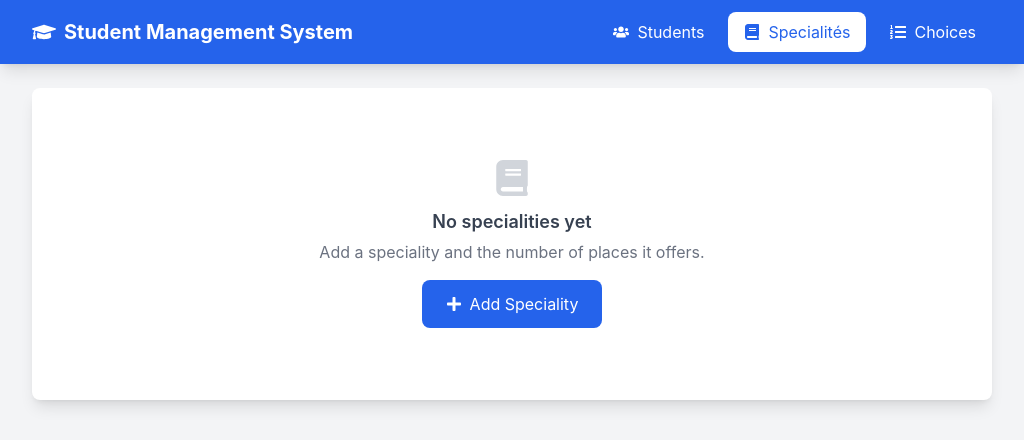
Test: rejects duplicate speciality names
The image size is (1024, 440).
Click the button "Add Speciality" at {"x": 512, "y": 304}, box [422,280,602,328]
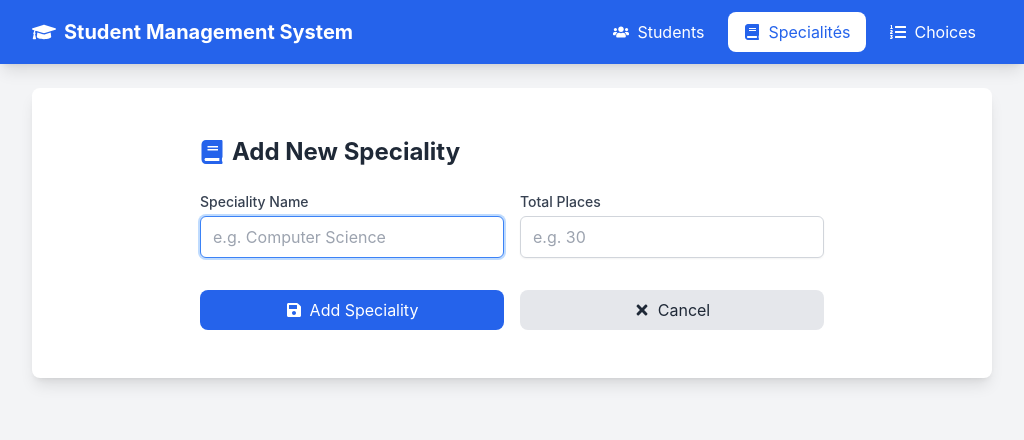
Type "Math" into the field labelled "Speciality Name" at {"x": 352, "y": 237}, box [200,216,504,258]
Type "10" into the number field labelled "Total Places" at {"x": 672, "y": 237}, box [520,216,824,258]
Click the button "Add Speciality" at {"x": 352, "y": 310}, box [200,290,504,330]
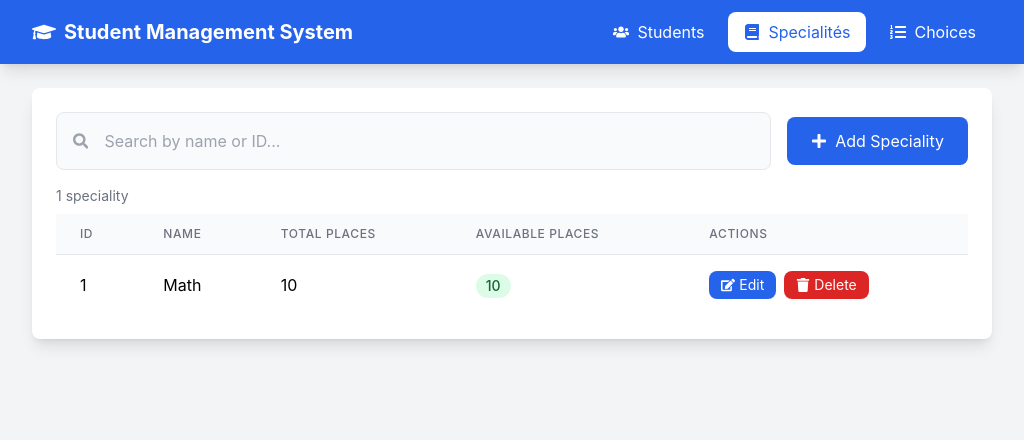
Click the button "Add Speciality" at {"x": 878, "y": 141}, box [787,117,968,165]
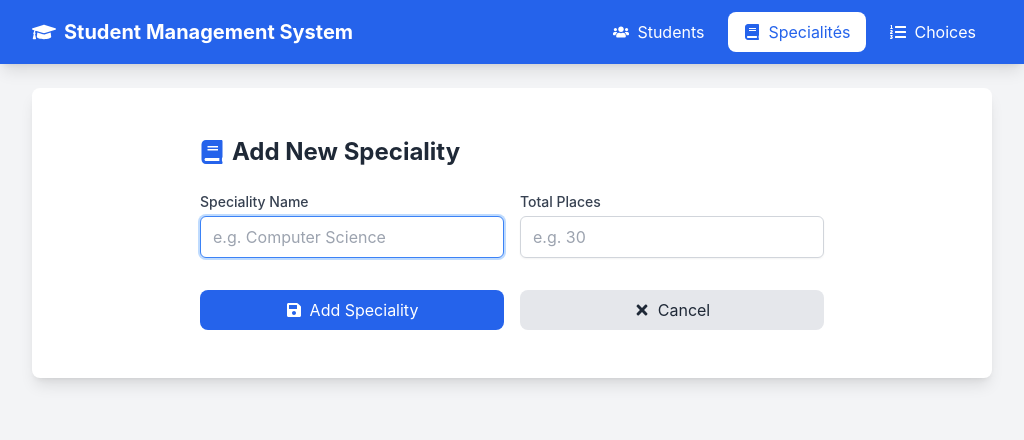
Type "math" into the field labelled "Speciality Name" at {"x": 352, "y": 237}, box [200,216,504,258]
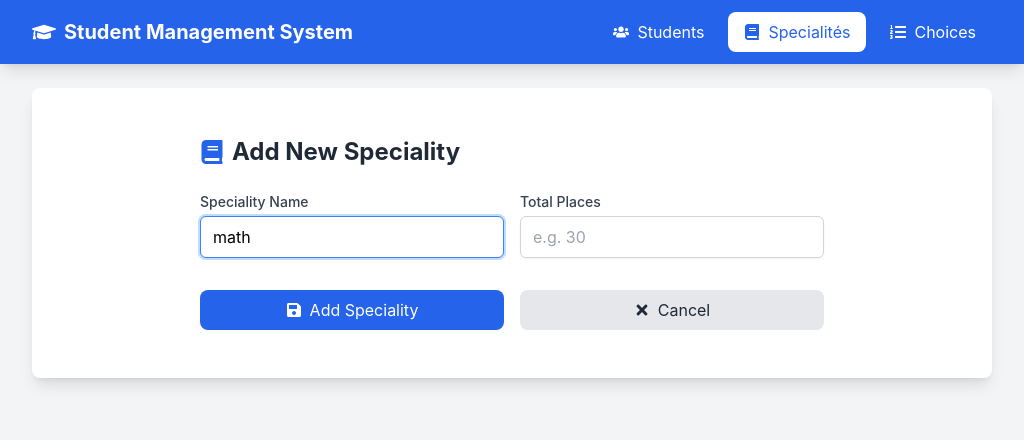
Type "10" into the number field labelled "Total Places" at {"x": 672, "y": 237}, box [520,216,824,258]
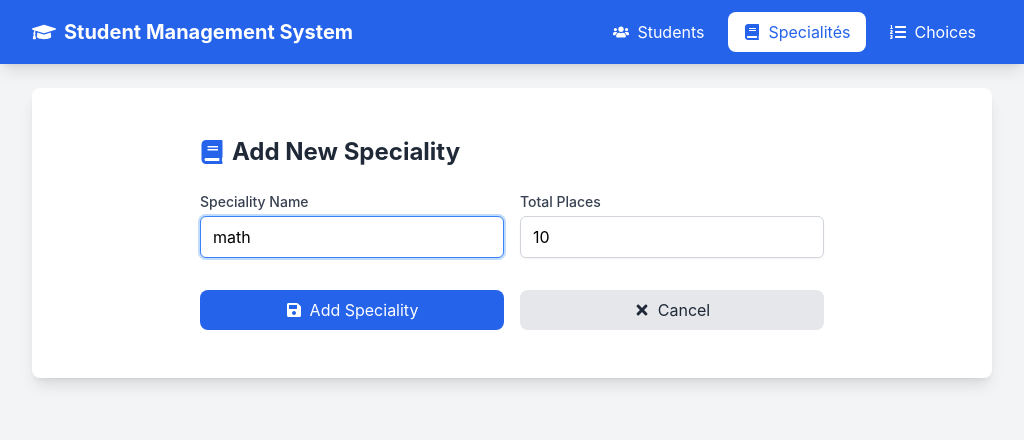
Click the button "Add Speciality" at {"x": 352, "y": 310}, box [200,290,504,330]
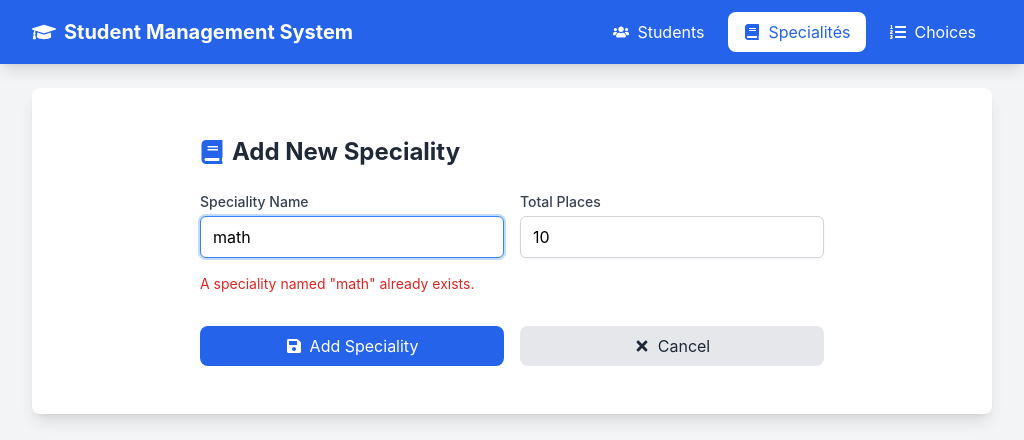
Expected: the text "A speciality named \"math\" already exists." is shown, [200,275,474,292]
